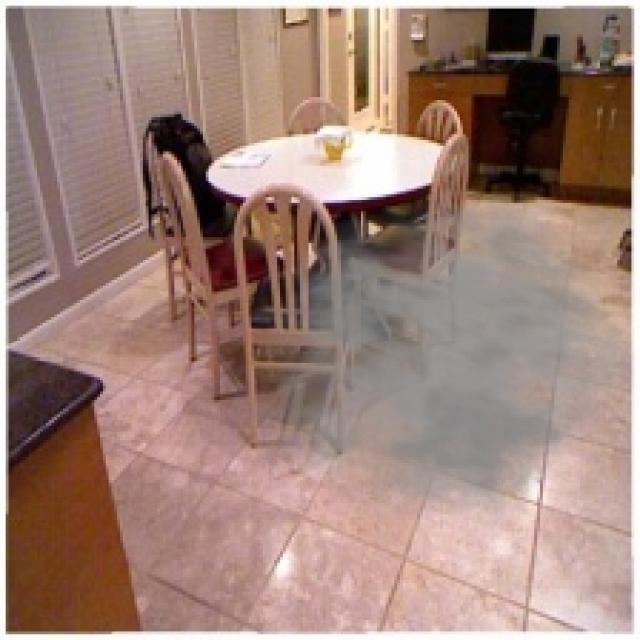smoke: (223, 191, 637, 543)
